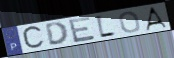A: (144, 6, 169, 32)
C: (21, 24, 46, 51)
D: (45, 21, 71, 47)
E: (67, 15, 97, 44)
L: (94, 14, 117, 40)
O: (118, 11, 142, 34)
